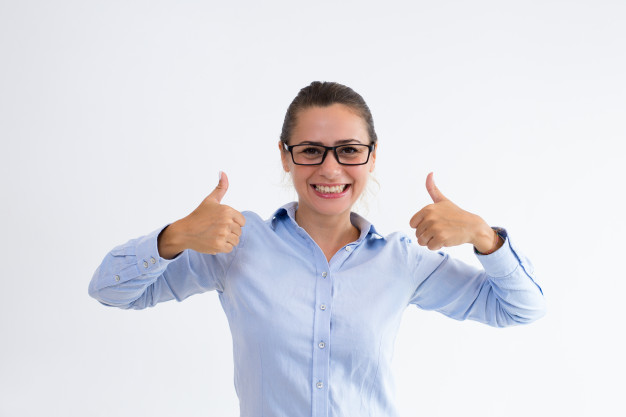thumbsup: (203, 170, 245, 254), (409, 171, 451, 251)
